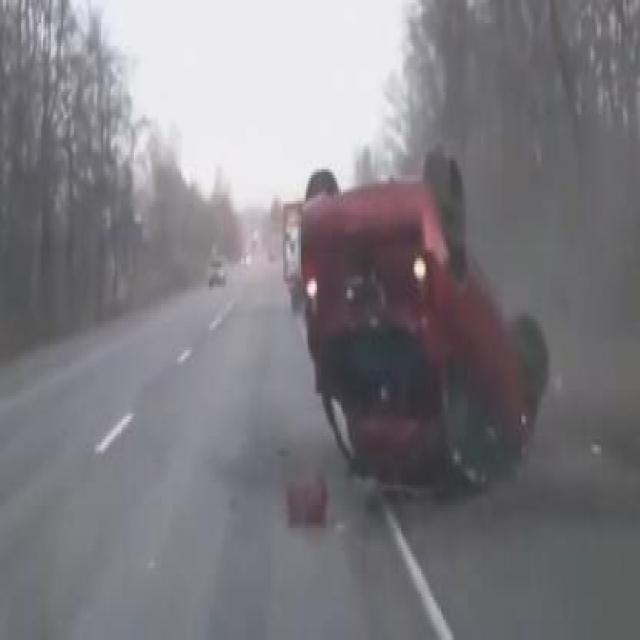accident: (266, 96, 565, 538)
